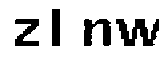l: (44, 6, 72, 49)
n: (80, 12, 112, 47)
w: (113, 11, 160, 51)
z: (9, 15, 42, 50)
